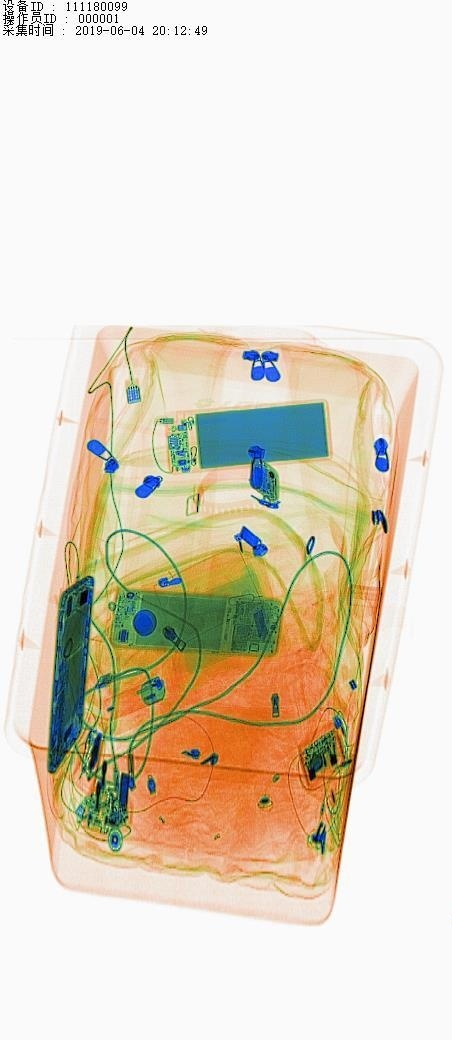NonmetallicFire: (91, 674, 174, 730)
